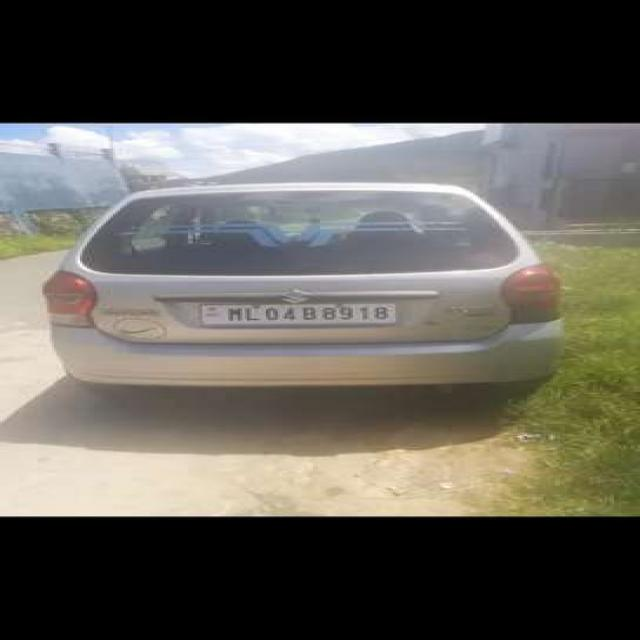Plate: (201, 301, 396, 325)
